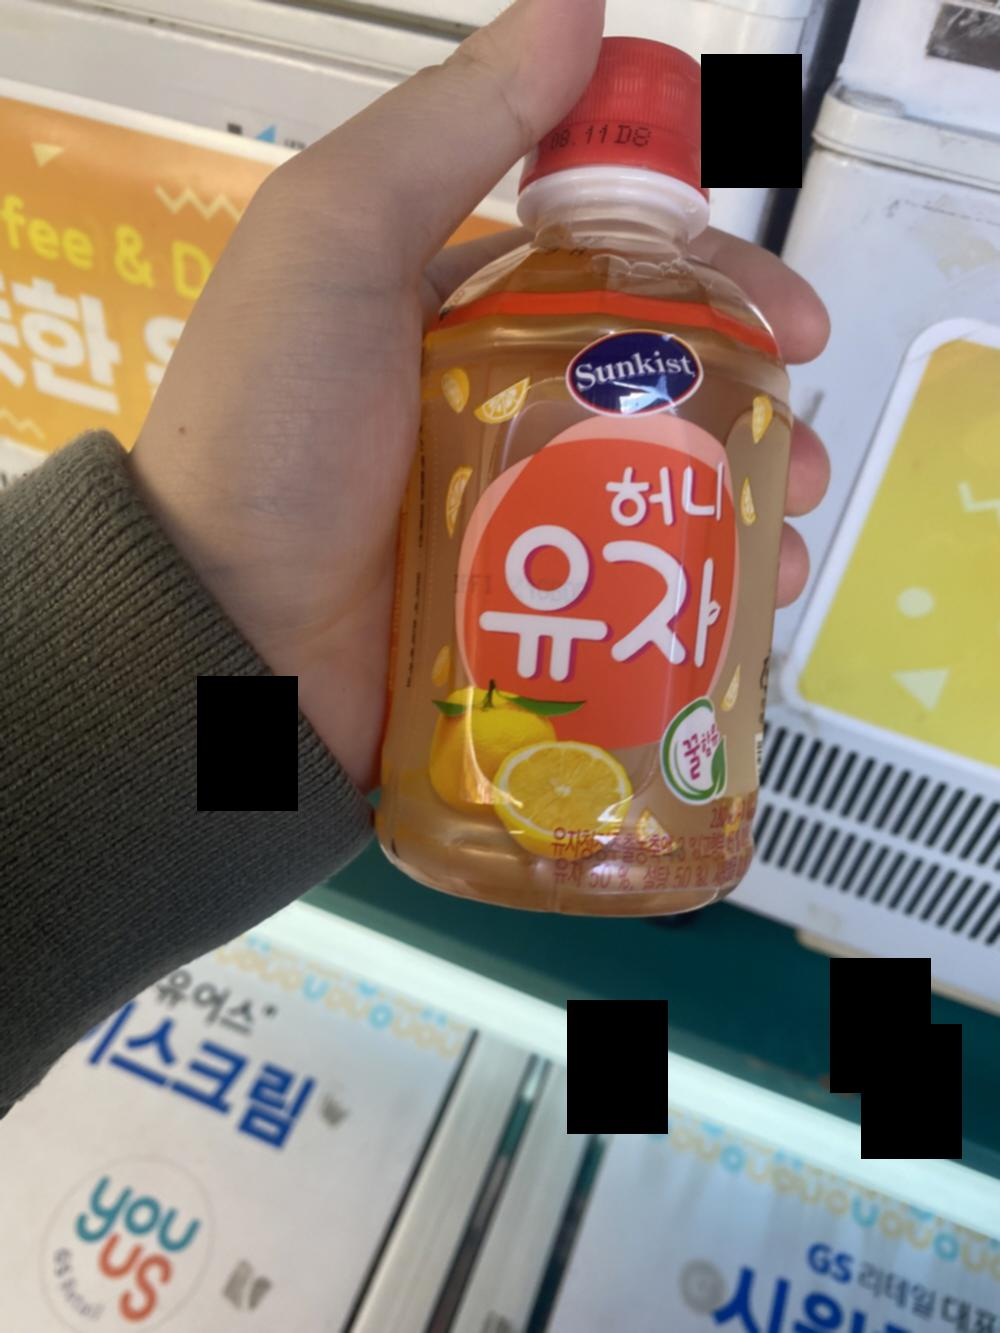honeyyuja: (398, 34, 768, 923)
